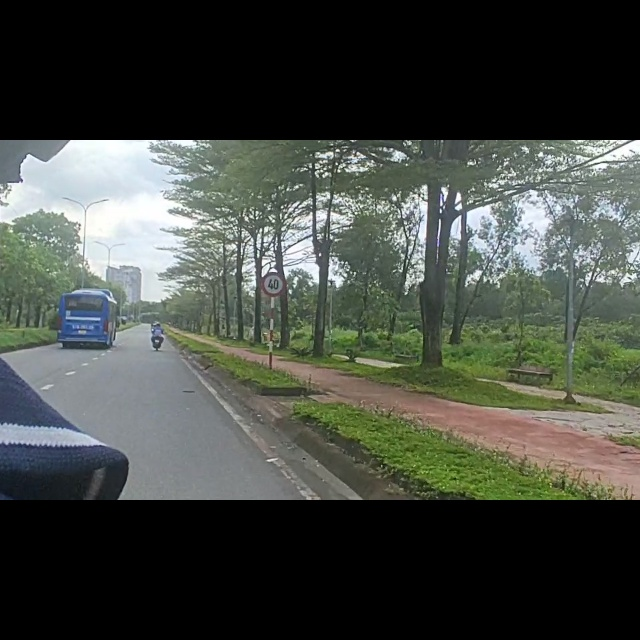Tốc độ tối đa cho phép 40km/h: (261, 272, 286, 298)
